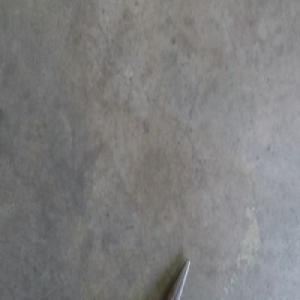Pliers: (168, 258, 189, 299)
